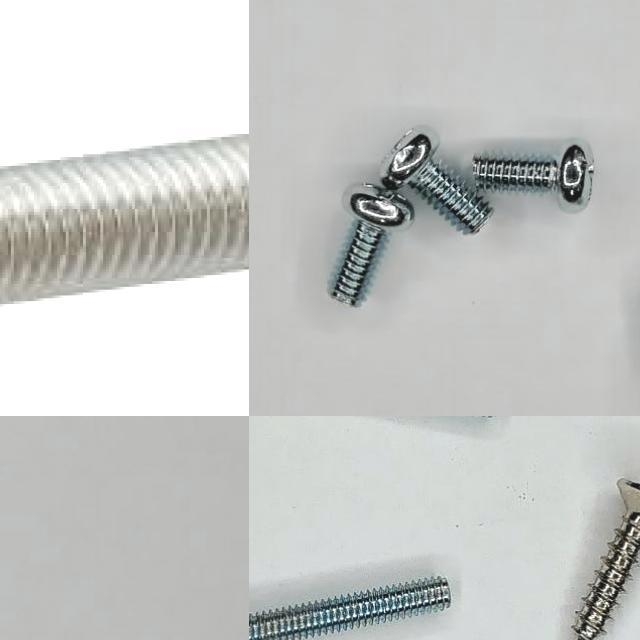Screw: (0, 131, 249, 305), (249, 577, 452, 640), (382, 129, 493, 234), (573, 479, 640, 640), (328, 184, 415, 307), (473, 140, 595, 213)
